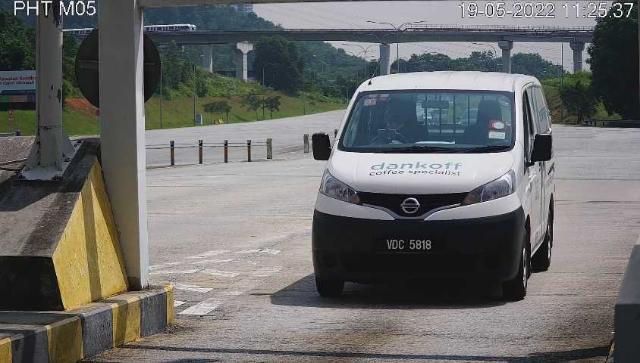License_Plate: (381, 230, 441, 260)
van: (314, 72, 557, 302)
